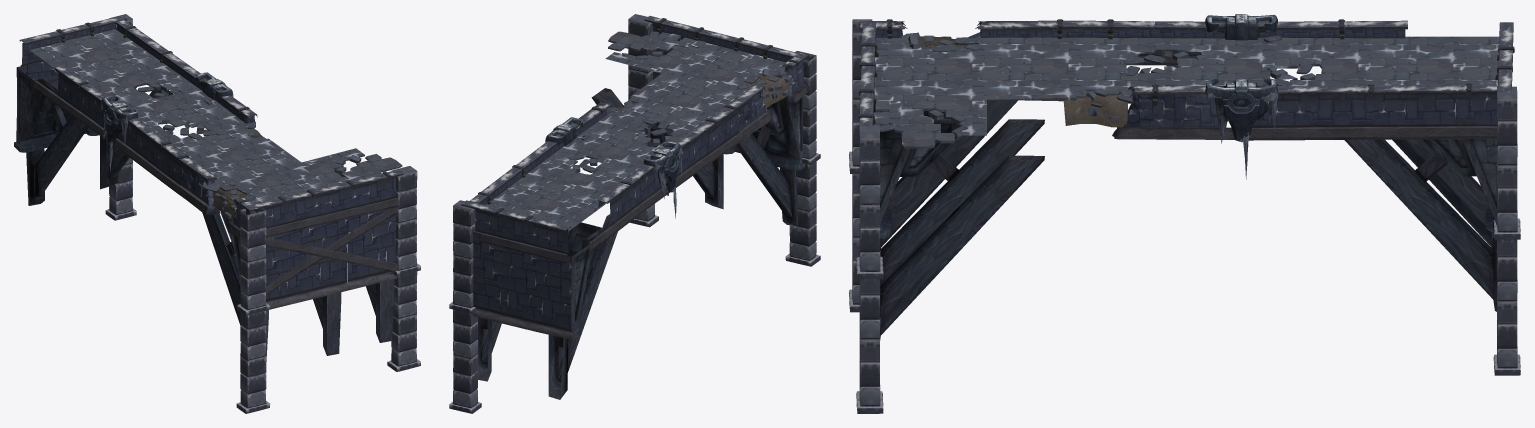
Rendered from Bedaying_yzqiao.FBX.
The picture shows the model from 3 angles, left to right: view 1: azimuth 30°, elevation 25°; view 2: azimuth 150°, elevation 25°; view 3: azimuth 270°, elevation 25°; orthographic projection. The views are drawn at different scales.
Parts seen in each view (by area): view 1: Bedaying_yzqiao, Bedaying_yzqiaodimian, Bedaying_yzzhuzi; view 2: Bedaying_yzqiao, Bedaying_yzqiaodimian, Bedaying_yzzhuzi; view 3: Bedaying_yzqiao, Bedaying_yzqiaodimian, Bedaying_yzzhuzi.
Boxes of the visible parts, <box> form: Bedaying_yzqiao: <box>14,15,403,361</box>; Bedaying_yzqiaodimian: <box>30,29,402,218</box>; Bedaying_yzzhuzi: <box>105,14,420,413</box>; Bedaying_yzqiao: <box>461,16,808,399</box>; Bedaying_yzqiaodimian: <box>486,31,791,231</box>; Bedaying_yzzhuzi: <box>449,14,820,413</box>; Bedaying_yzqiao: <box>858,14,1514,340</box>; Bedaying_yzqiaodimian: <box>873,32,1499,148</box>; Bedaying_yzzhuzi: <box>849,19,1520,413</box>.
Size of the model in its own units: 532 by 1233 by 581.
